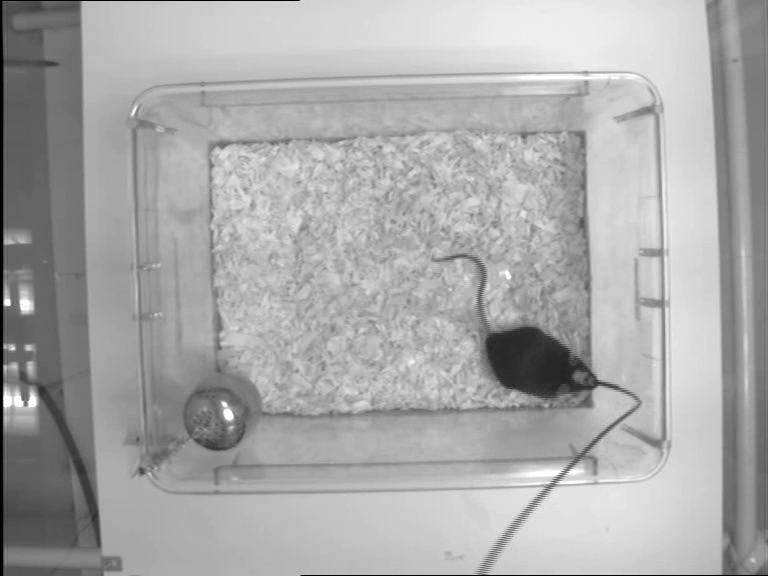mice: (425, 254, 600, 402)
